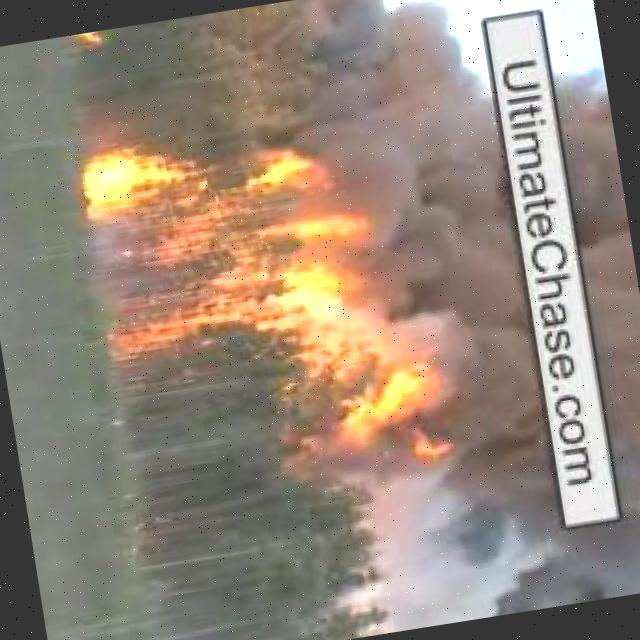fire: (72, 112, 388, 353), (289, 322, 463, 490), (67, 30, 107, 56)
